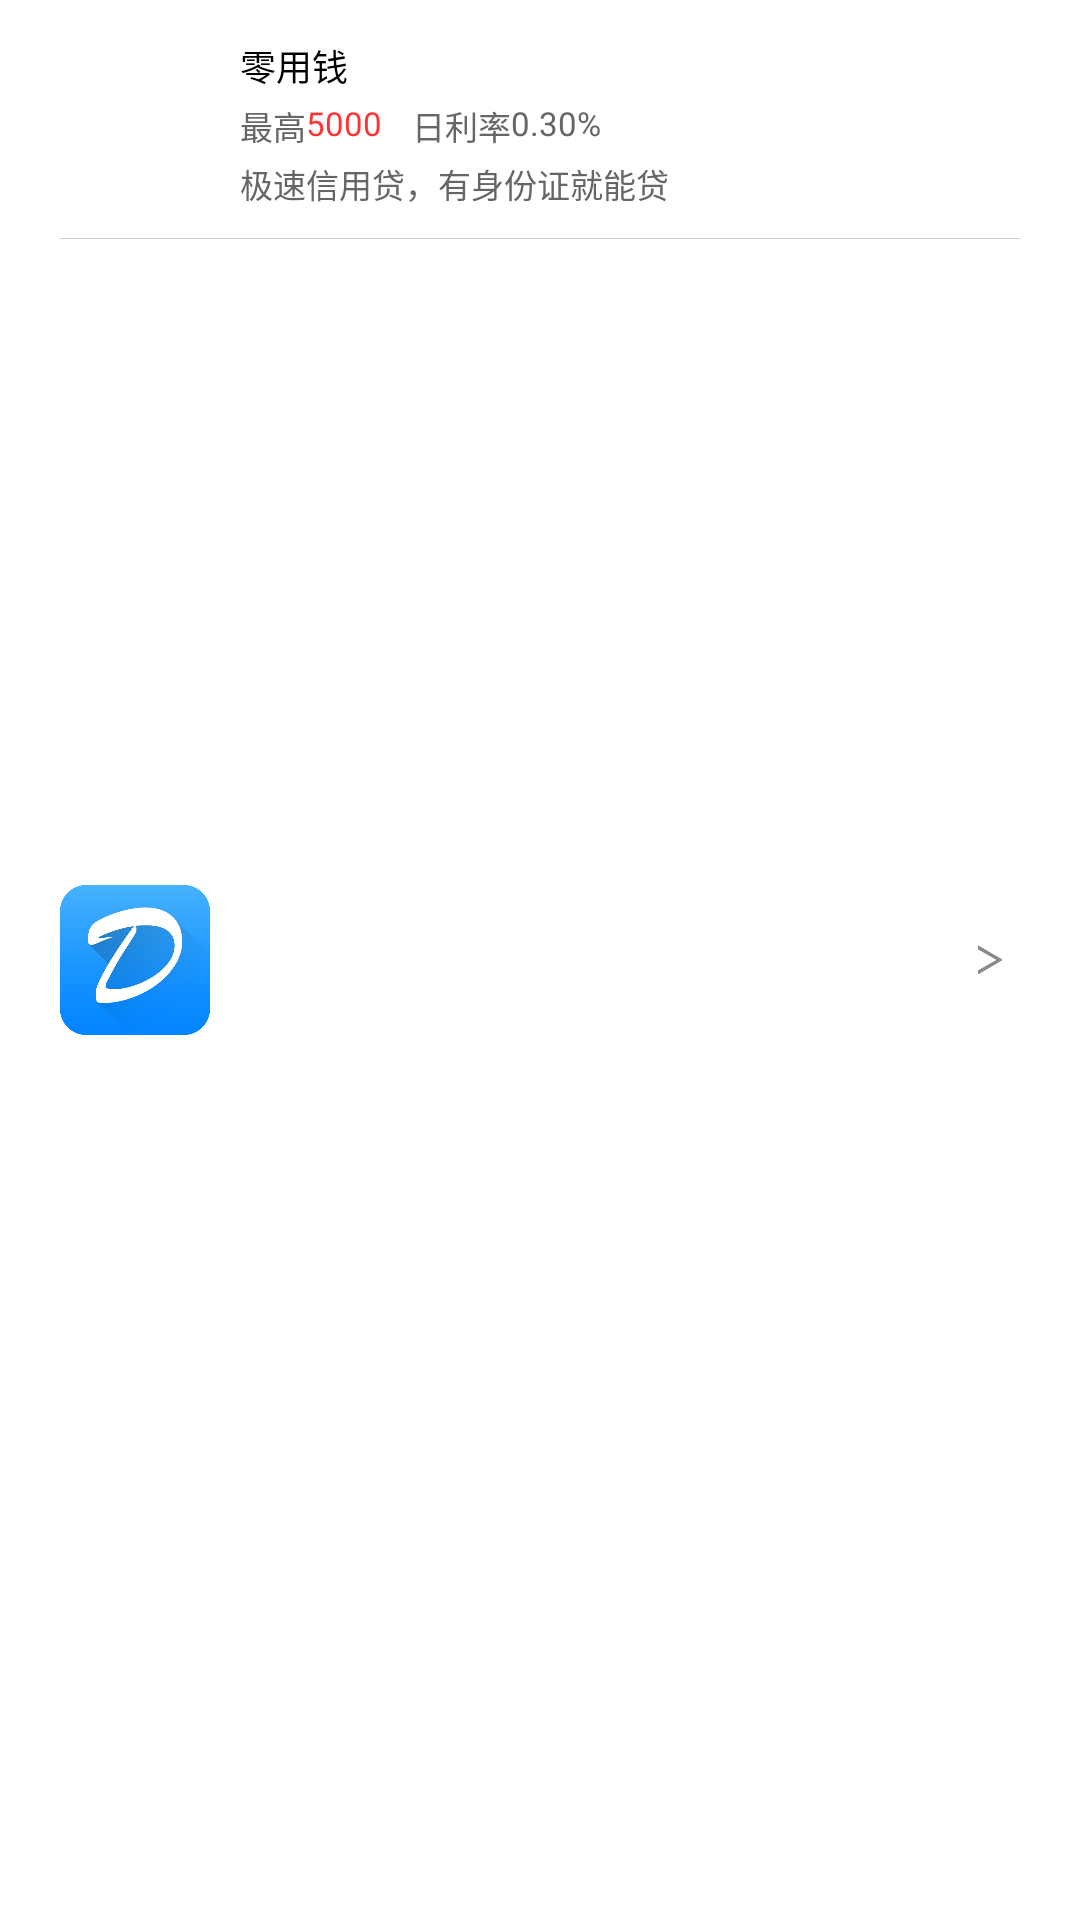

Screen size 1080px×1920px. Icon name, then its center in pixels as (x=x, y=y):
arrow: (x=990, y=959)
